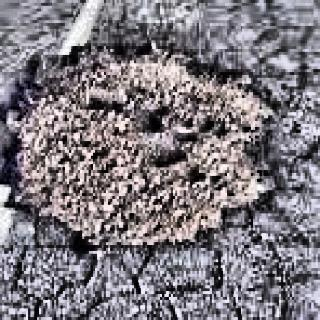alligator-crack: (0, 143, 316, 320)
pothole: (3, 45, 280, 236)
